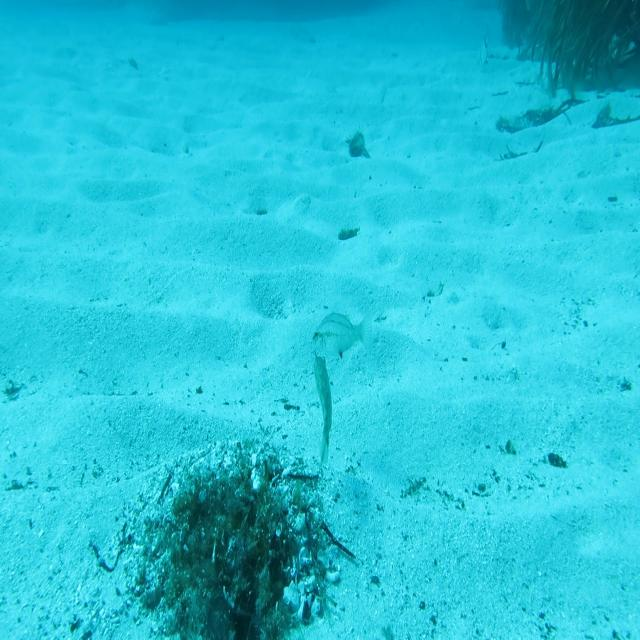MAF: (309, 348, 335, 468)
core_nest: (200, 495, 250, 531)
female: (310, 309, 376, 362)
nest: (113, 423, 350, 640)
vegetation: (338, 227, 361, 241)
